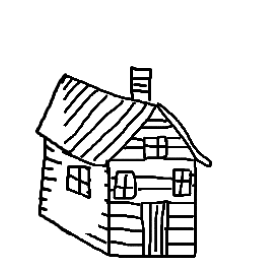bottom_placed_house: (0, 0, 260, 260)
chimney: (126, 59, 159, 113)
closed_window: (61, 161, 94, 201), (140, 130, 172, 162), (168, 165, 195, 202), (112, 167, 139, 202)
door: (134, 199, 174, 259)
roof: (25, 70, 221, 167)
wall: (102, 100, 204, 260)
